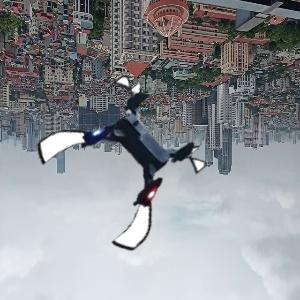drone: (52, 91, 201, 240)
